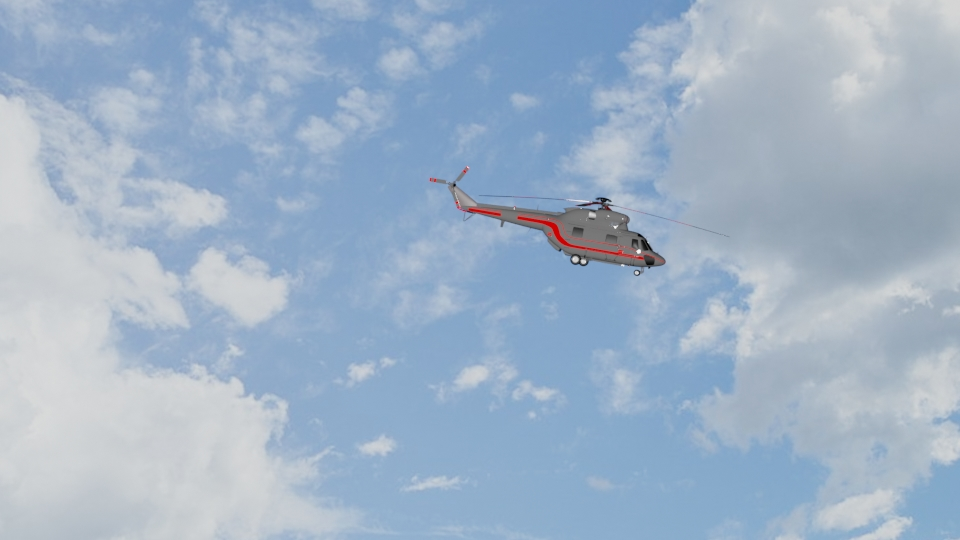heli: (428, 163, 672, 274)
